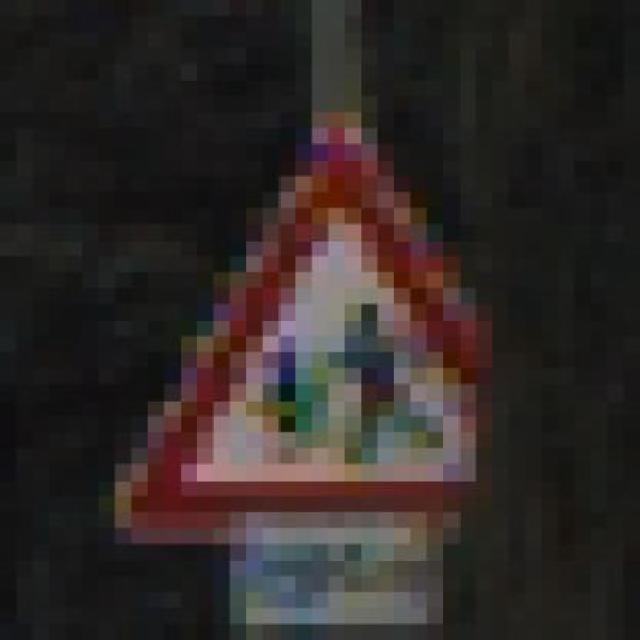Beware of children: (99, 111, 558, 528)
